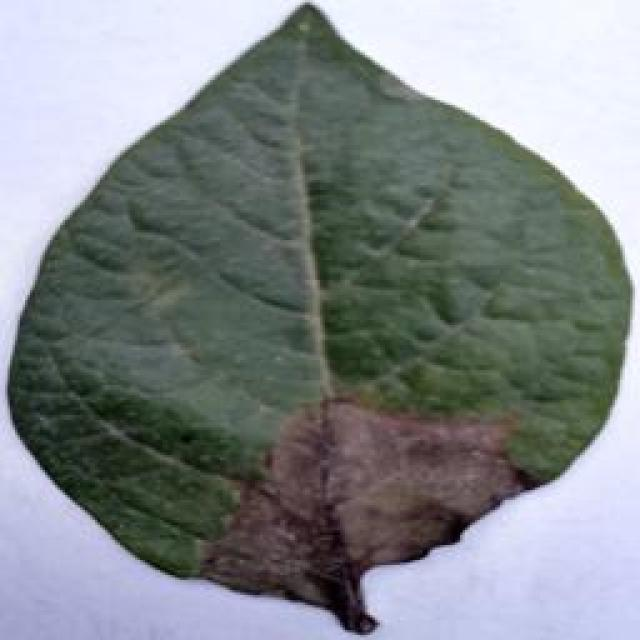Potato_Late_Blight: (5, 12, 631, 634)
